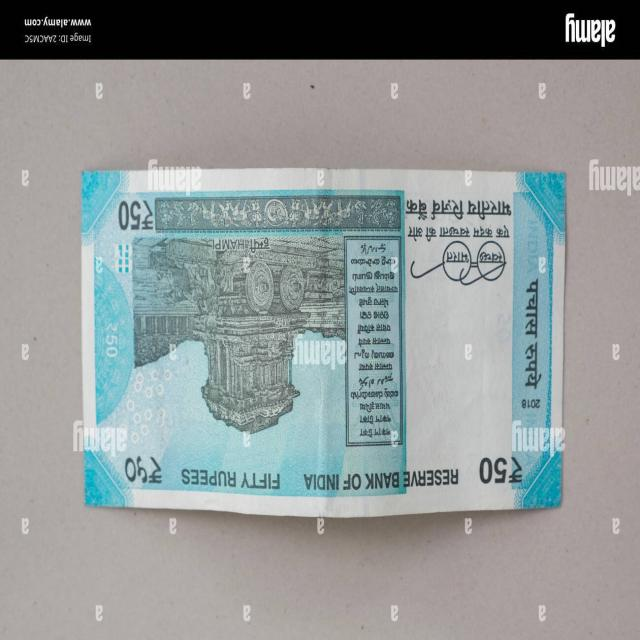50IndianRupees: (84, 175, 570, 505), (84, 178, 406, 510), (279, 170, 563, 504)
